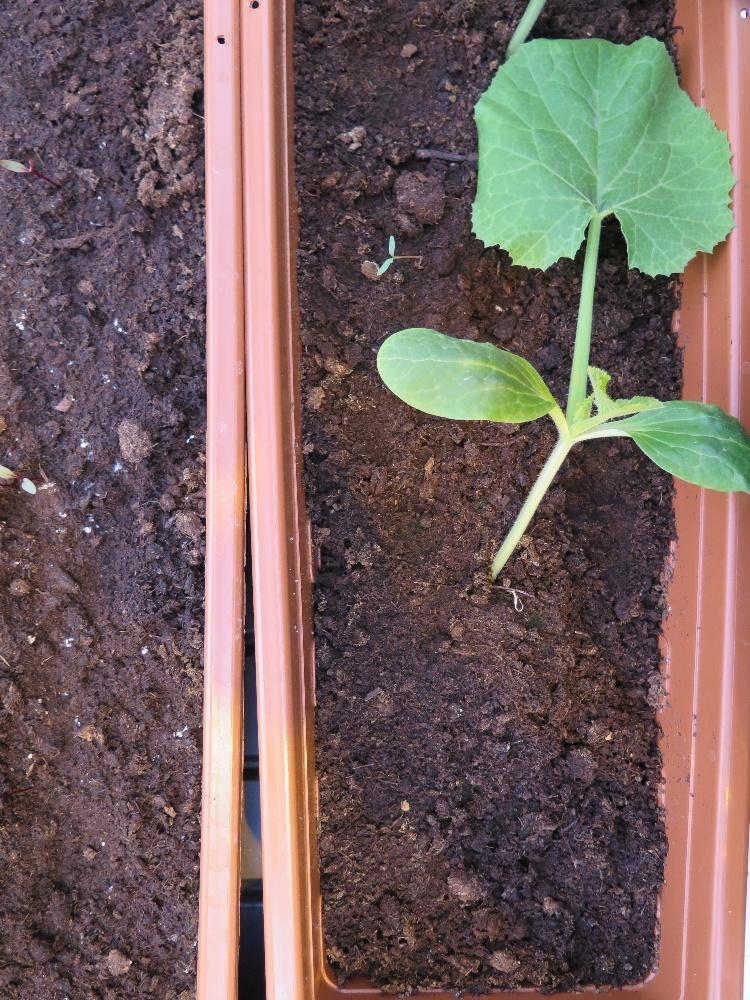weed: (375, 231, 394, 276)
